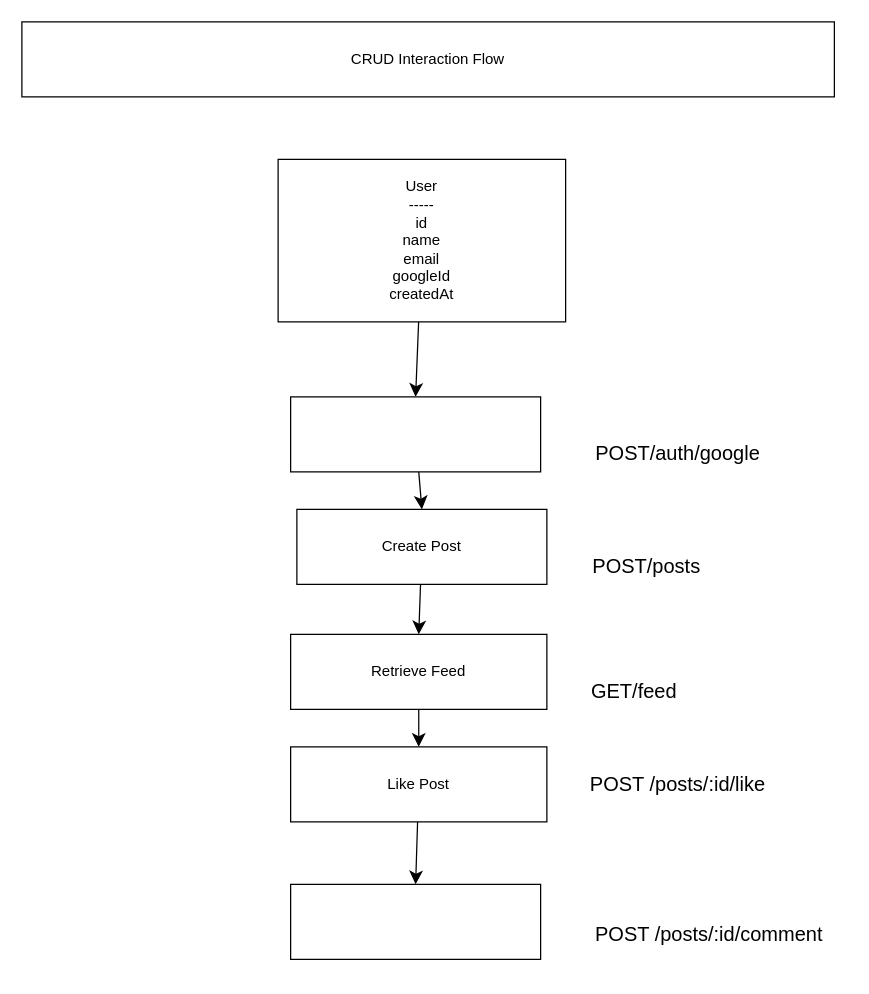
The diagram is 869 pixels wide and 994 high, and some of its shapes have lost their labels. Here are the shapes that lost their labels. From the top down, the box of each, then its label:
(289, 396, 541, 472): Login with Google
(289, 883, 541, 959): Comment on Post
